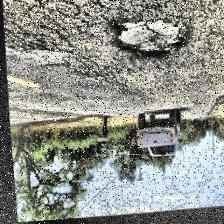pothole: (107, 14, 187, 68)
